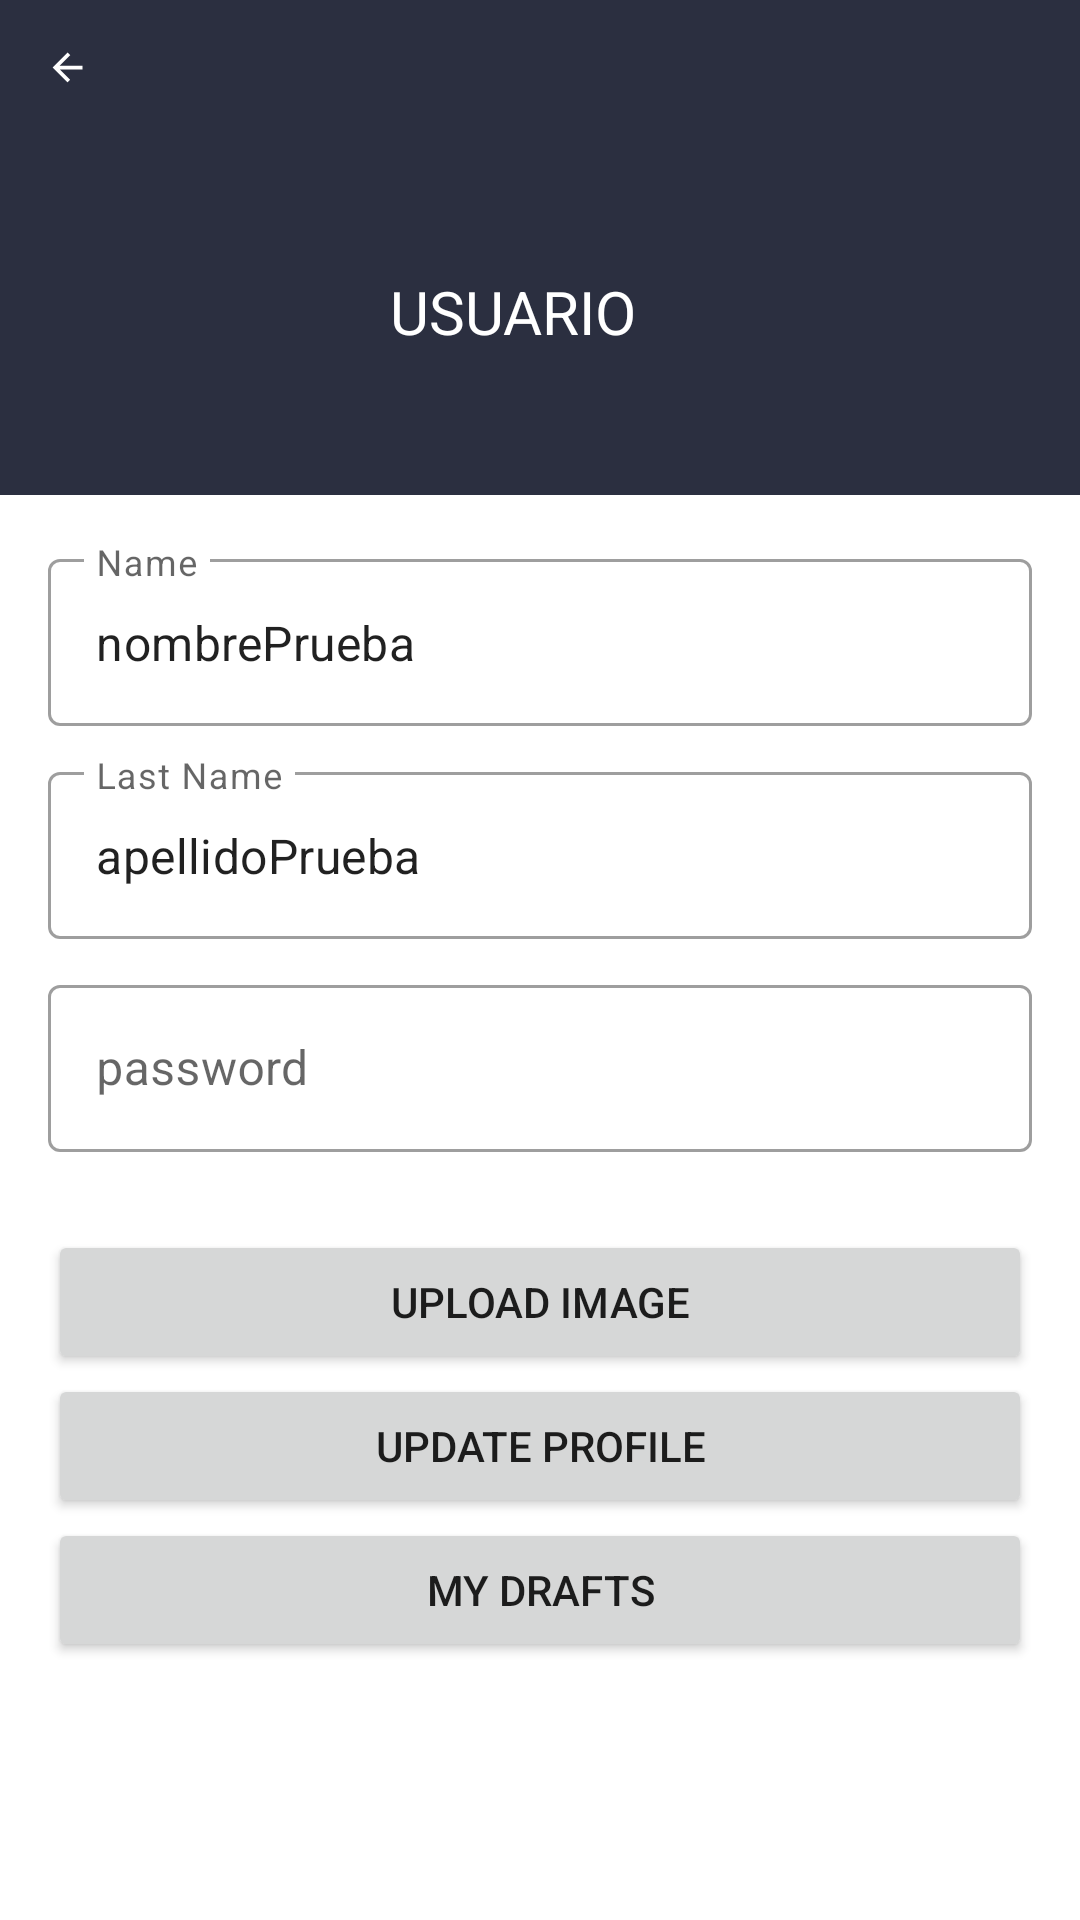

Screen size 1080 x 1920. Icon name, then its box in pixels as (x1, y1, x2, y2):
ice arrow back: (52, 52, 83, 83)
